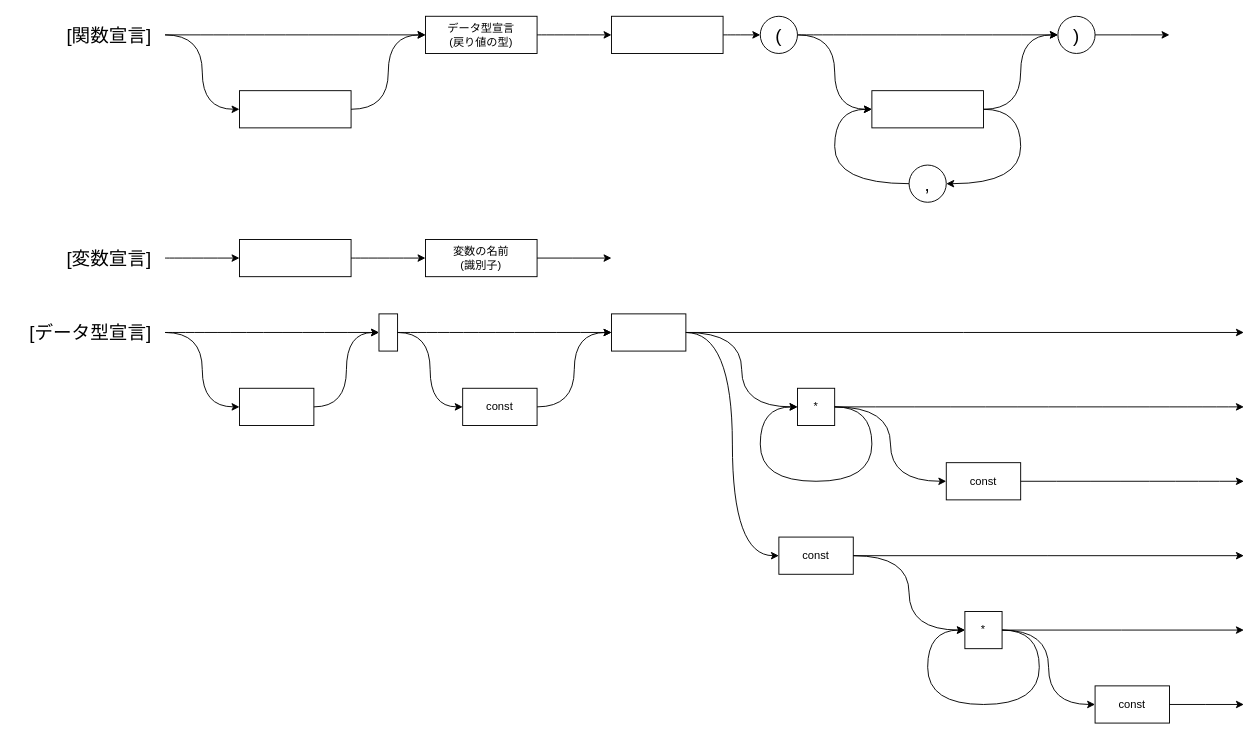
Some shapes in this 1259 by 739 pixel diagram are drawn without their labels. Here are the shapes that lost their labels. From the top down, the box of each, then its label:
(611, 15, 723, 53): 関数名 (識別子)
(239, 90, 351, 128): 修飾子 (static)
(871, 90, 983, 128): 変数宣言
(239, 239, 351, 277): データ型宣言
(611, 313, 686, 351): 型名
(239, 387, 314, 425): static
